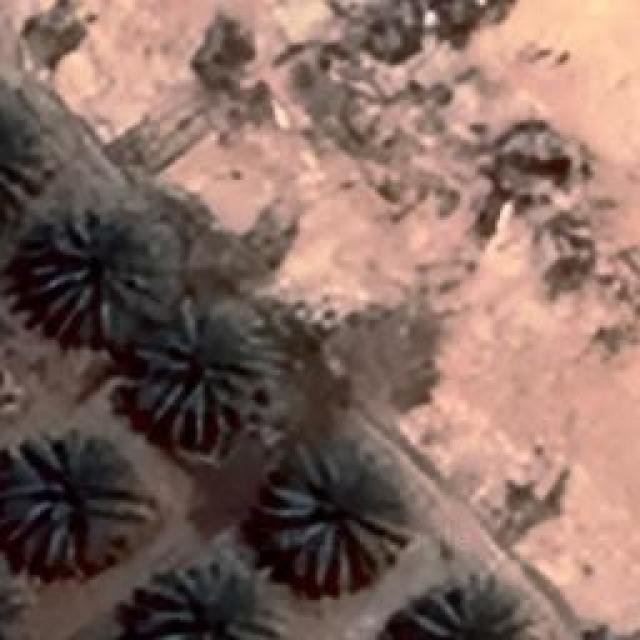PalmTree: (0, 430, 150, 570), (265, 450, 405, 595), (132, 308, 266, 450), (30, 210, 160, 340), (14, 113, 48, 596), (137, 552, 285, 638), (410, 578, 530, 638)
